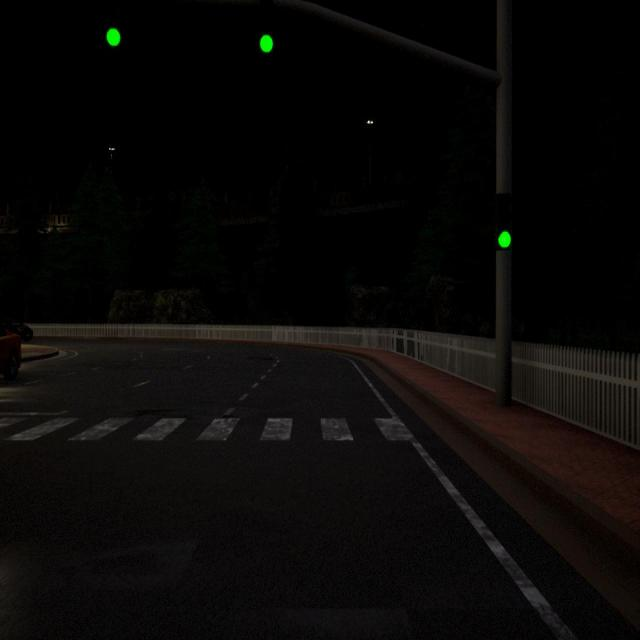Vehicle: (0, 320, 22, 381)
traffic_light: (493, 192, 513, 252), (106, 27, 121, 47), (260, 34, 274, 54)
